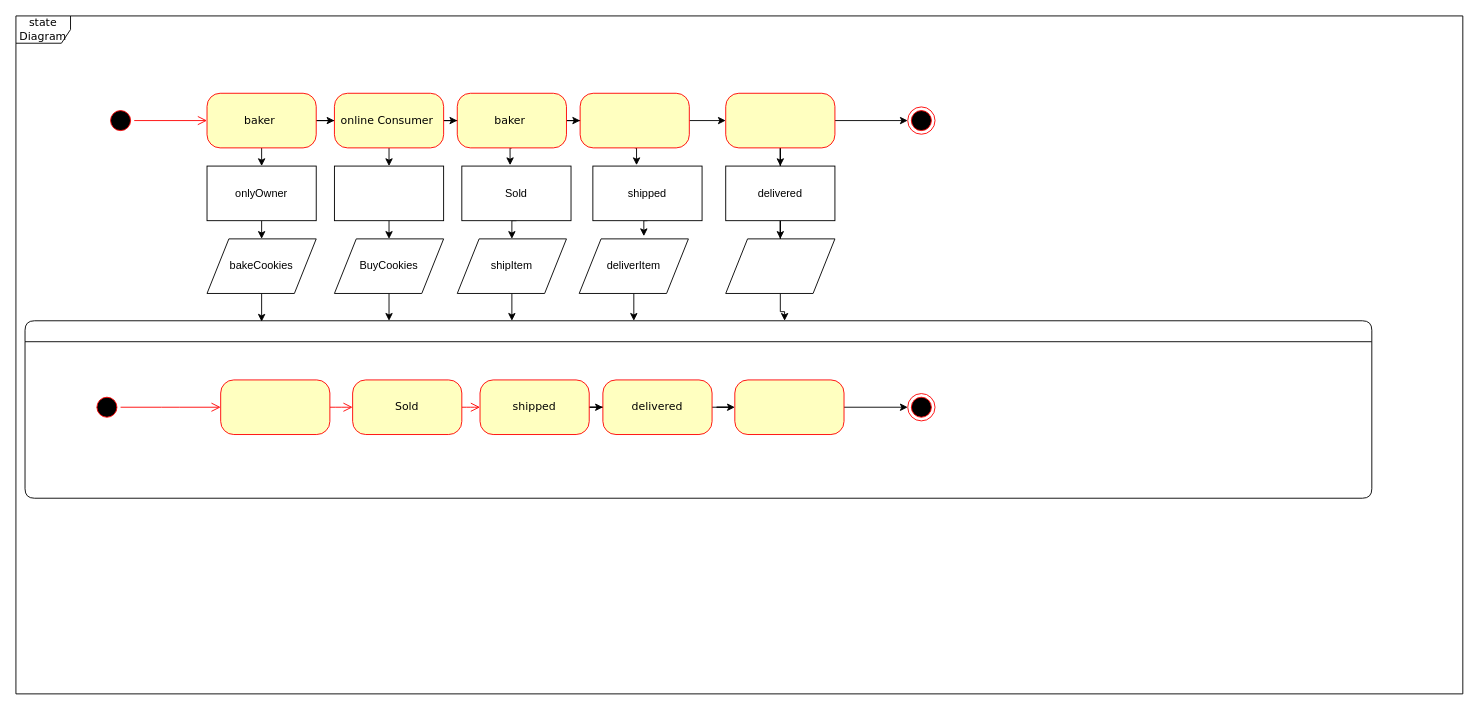
The diagram is 1479 pixels wide and 710 high, and some of its shapes have lost their labels. The box of each missing label's shape, as (x1, y1, x2, y2) in pixels:
consumer: (725, 92, 835, 148)
Cookie Jar State: (24, 320, 1372, 498)
delivery Agent: (579, 92, 689, 148)
ForSale: (220, 379, 330, 435)
ForSale ,paidEnough: (334, 165, 444, 221)
received: (734, 379, 844, 435)
receiveItem: (725, 238, 835, 293)
